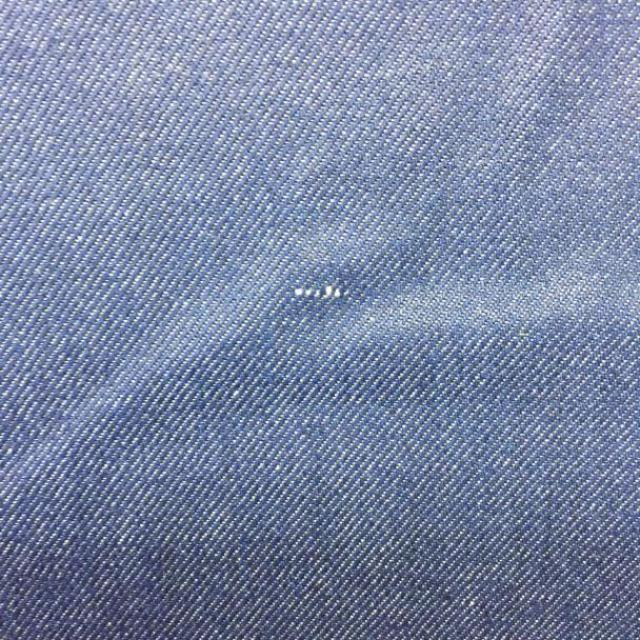Knot: (294, 285, 351, 298)
